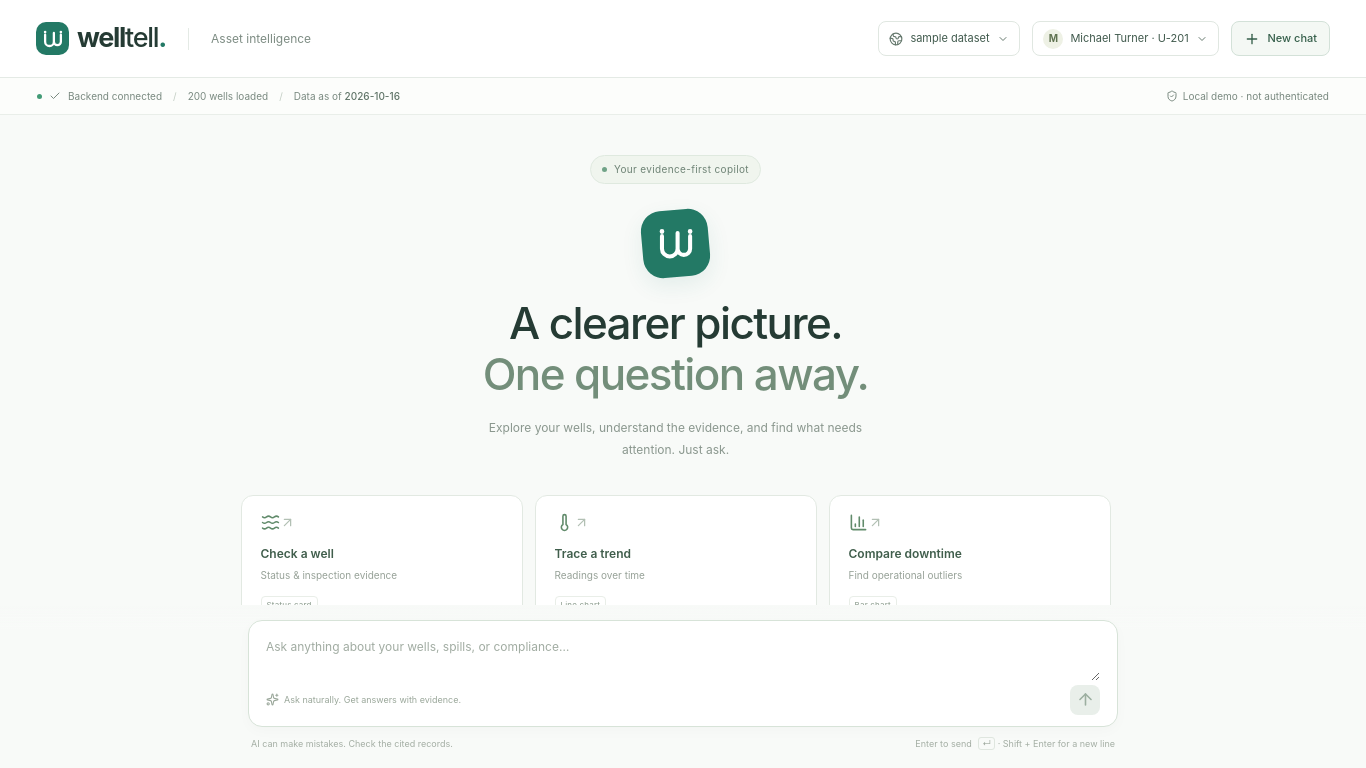
Test: preserves the draft and never retries HTTP 403
In the text box named "Ask about your assets": (683, 658) [266,636,1100,680], type "Preserve my question"
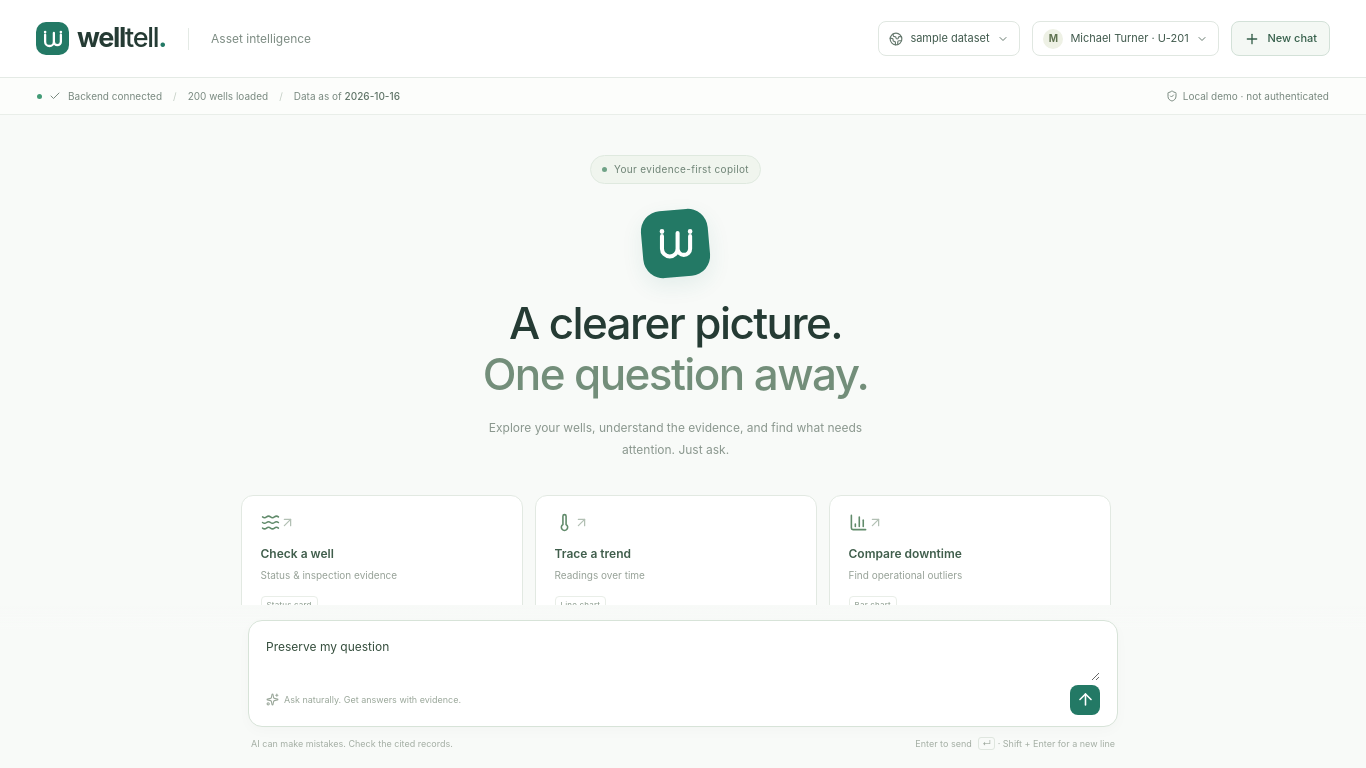
Click the button named "Send question": (1085, 700) [1070,684,1100,714]
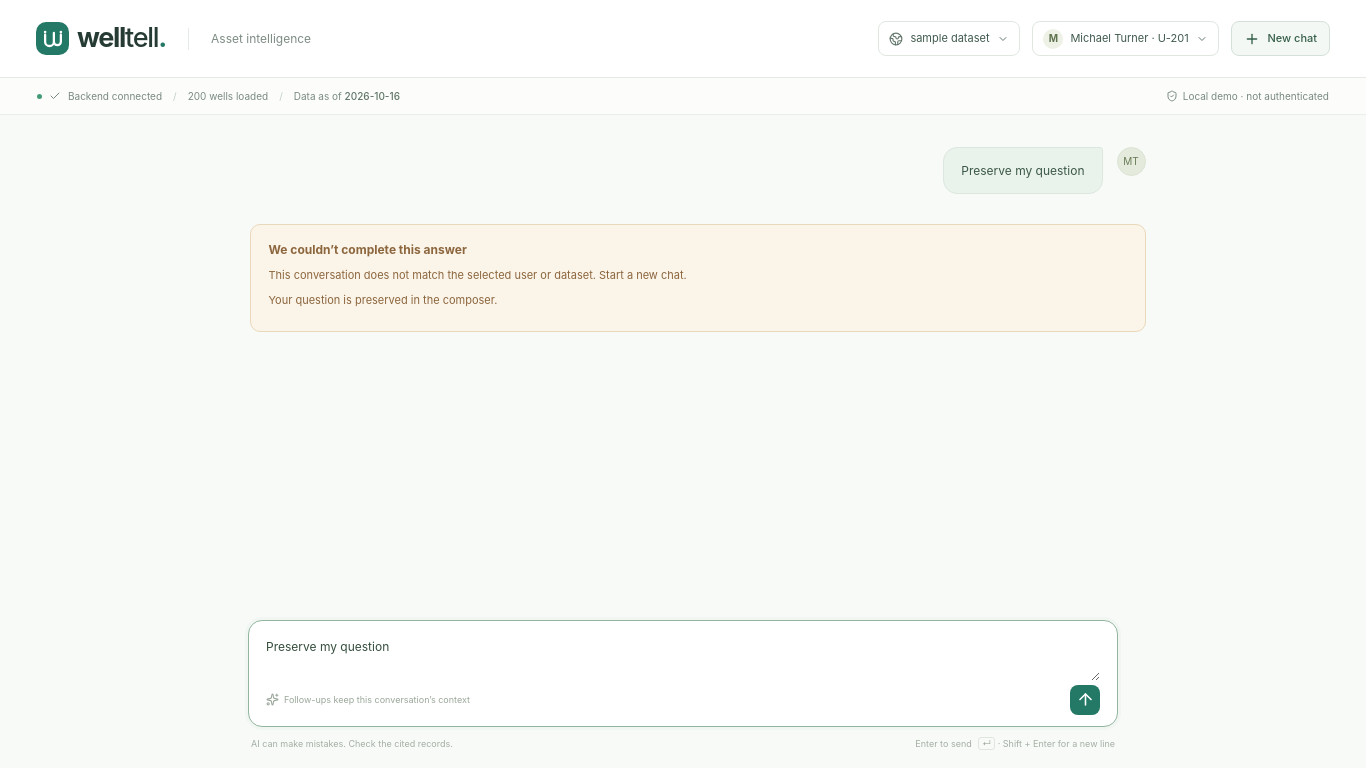
Now the message is shown, box [250,224,1146,332]
